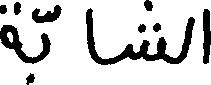X: (129, 0, 163, 65), (0, 0, 16, 58), (181, 12, 192, 66), (87, 3, 94, 65), (205, 0, 210, 84), (42, 6, 47, 64)
